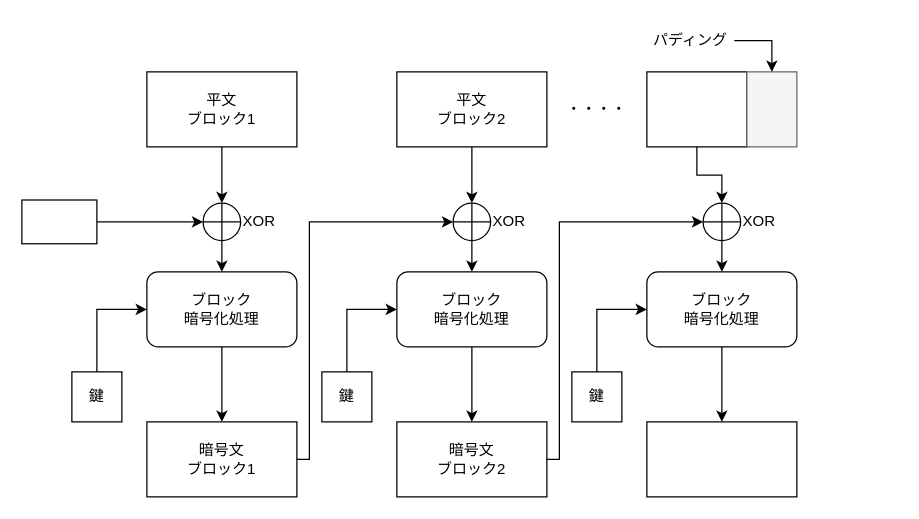
The diagram is 919 pixels wide and 519 high, and some of its shapes have lost their labels. Here are the shapes that lost their labels. From the top down, the centre of each, then its label:
(696,109): 平文 ブロックn
(59,221): IV
(721,459): 暗号文 ブロックn
